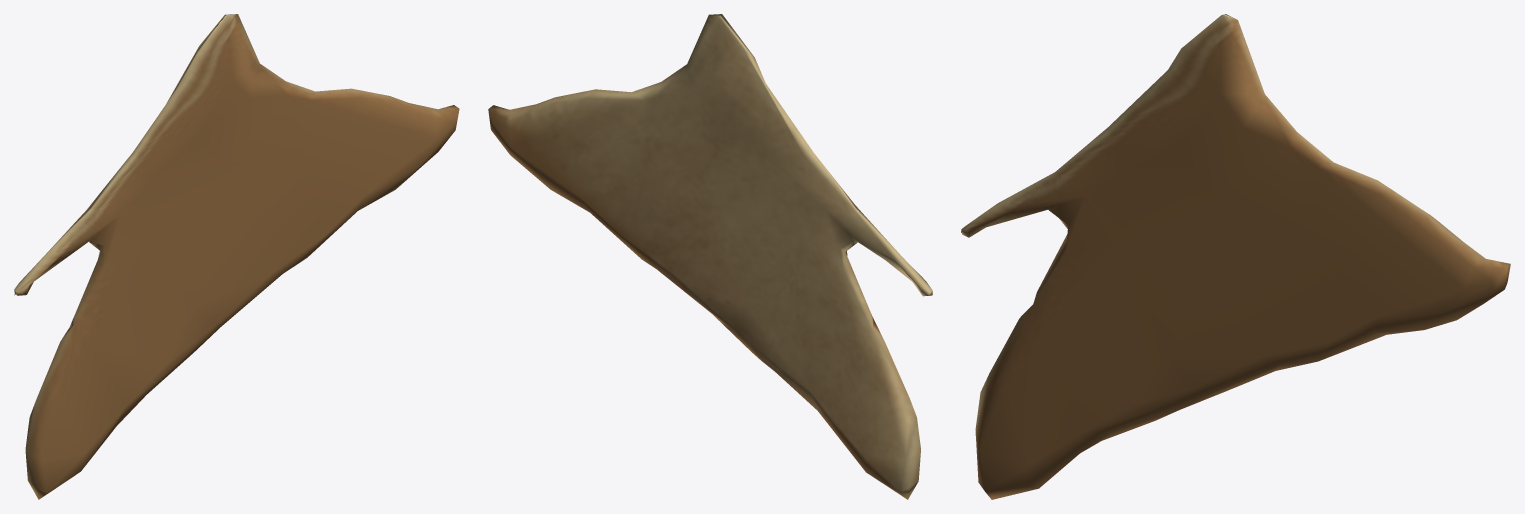
The model's file is Nasal_Septum.glb.
3 renders of one model, left to right at view 1: azimuth 30°, elevation 25°; view 2: azimuth 150°, elevation 25°; view 3: azimuth 330°, elevation 25°, orthographic. The views are drawn at different scales.
Visible parts, largest first — view 1: Nasal_Septum1; view 2: Nasal_Septum1; view 3: Nasal_Septum1.
Part boxes in pixels (x1,y1,x2,y2): Nasal_Septum1: (14, 14, 459, 499); Nasal_Septum1: (488, 14, 932, 499); Nasal_Septum1: (961, 14, 1510, 499).
Size of the model in its own units: 0.2179 by 0.207 by 0.0137.
1 material, 1 textured.
